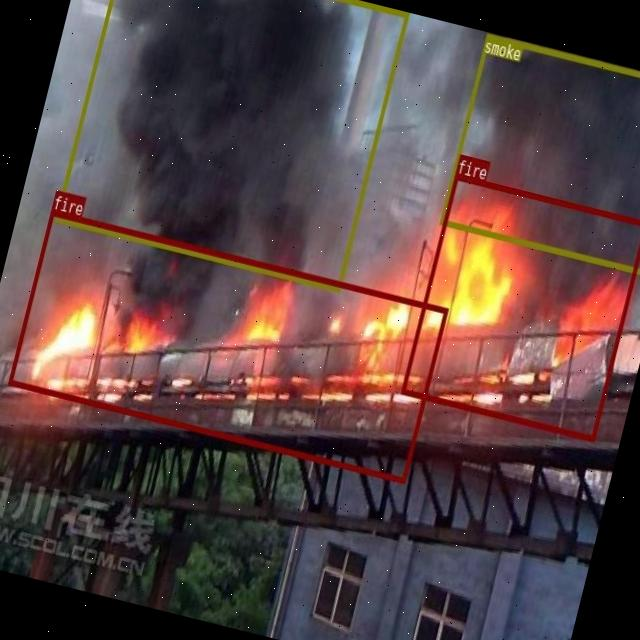fire: (8, 208, 448, 482), (400, 172, 640, 441)
smoke: (54, 0, 408, 291), (438, 31, 640, 275)
